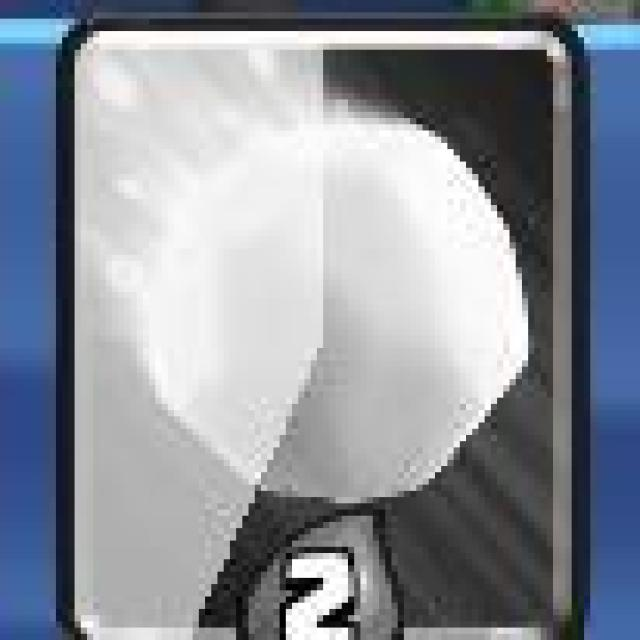Snowball: (56, 15, 593, 640)
